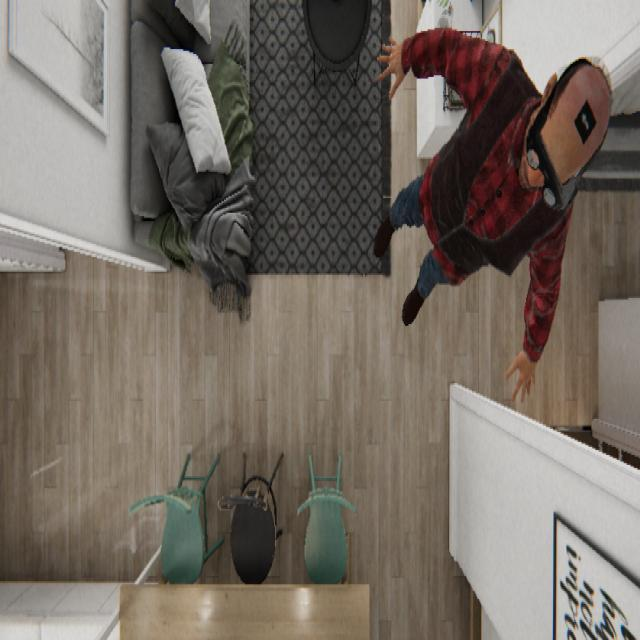Human: (373, 25, 613, 402)
UnityLogo: (573, 95, 596, 146)
